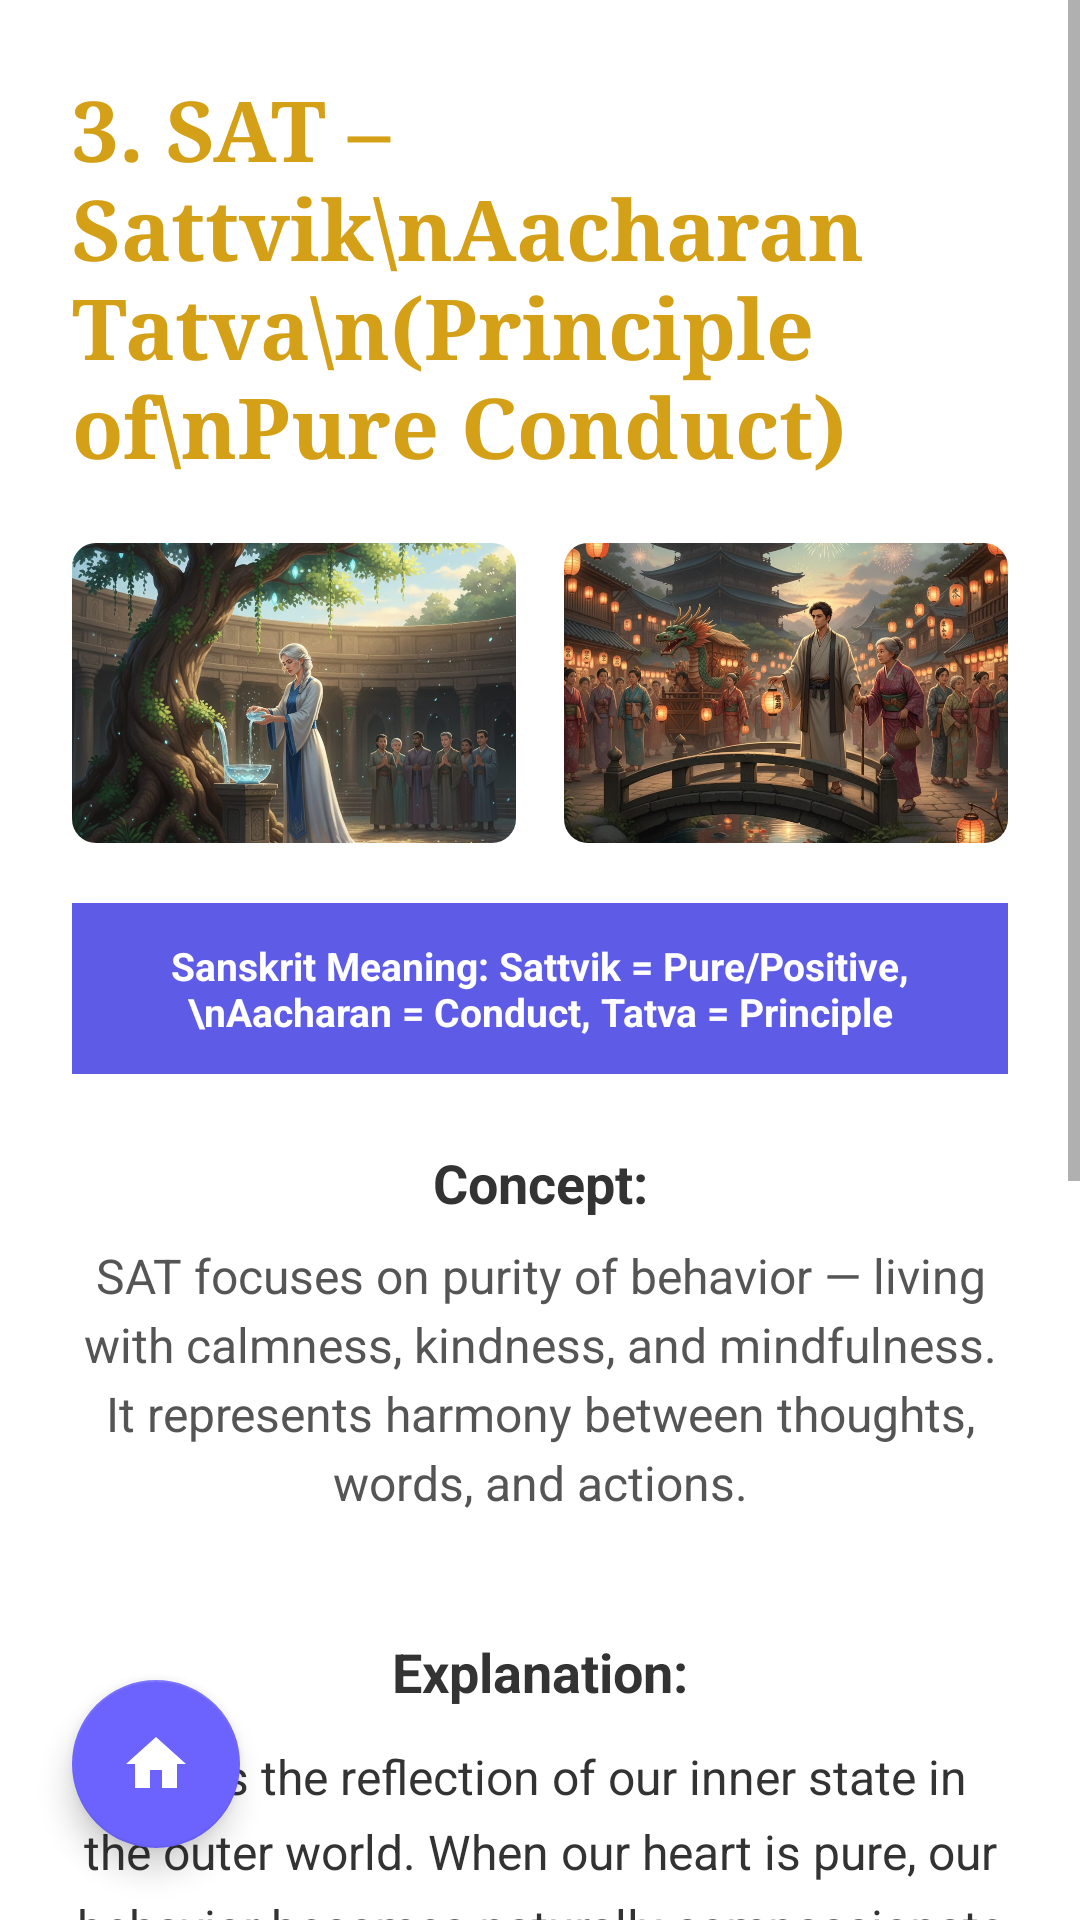

Where icons sit on this 1080x1920 app screen, as (x1, y1, x2, y2):
home: (72, 1680, 240, 1848)
